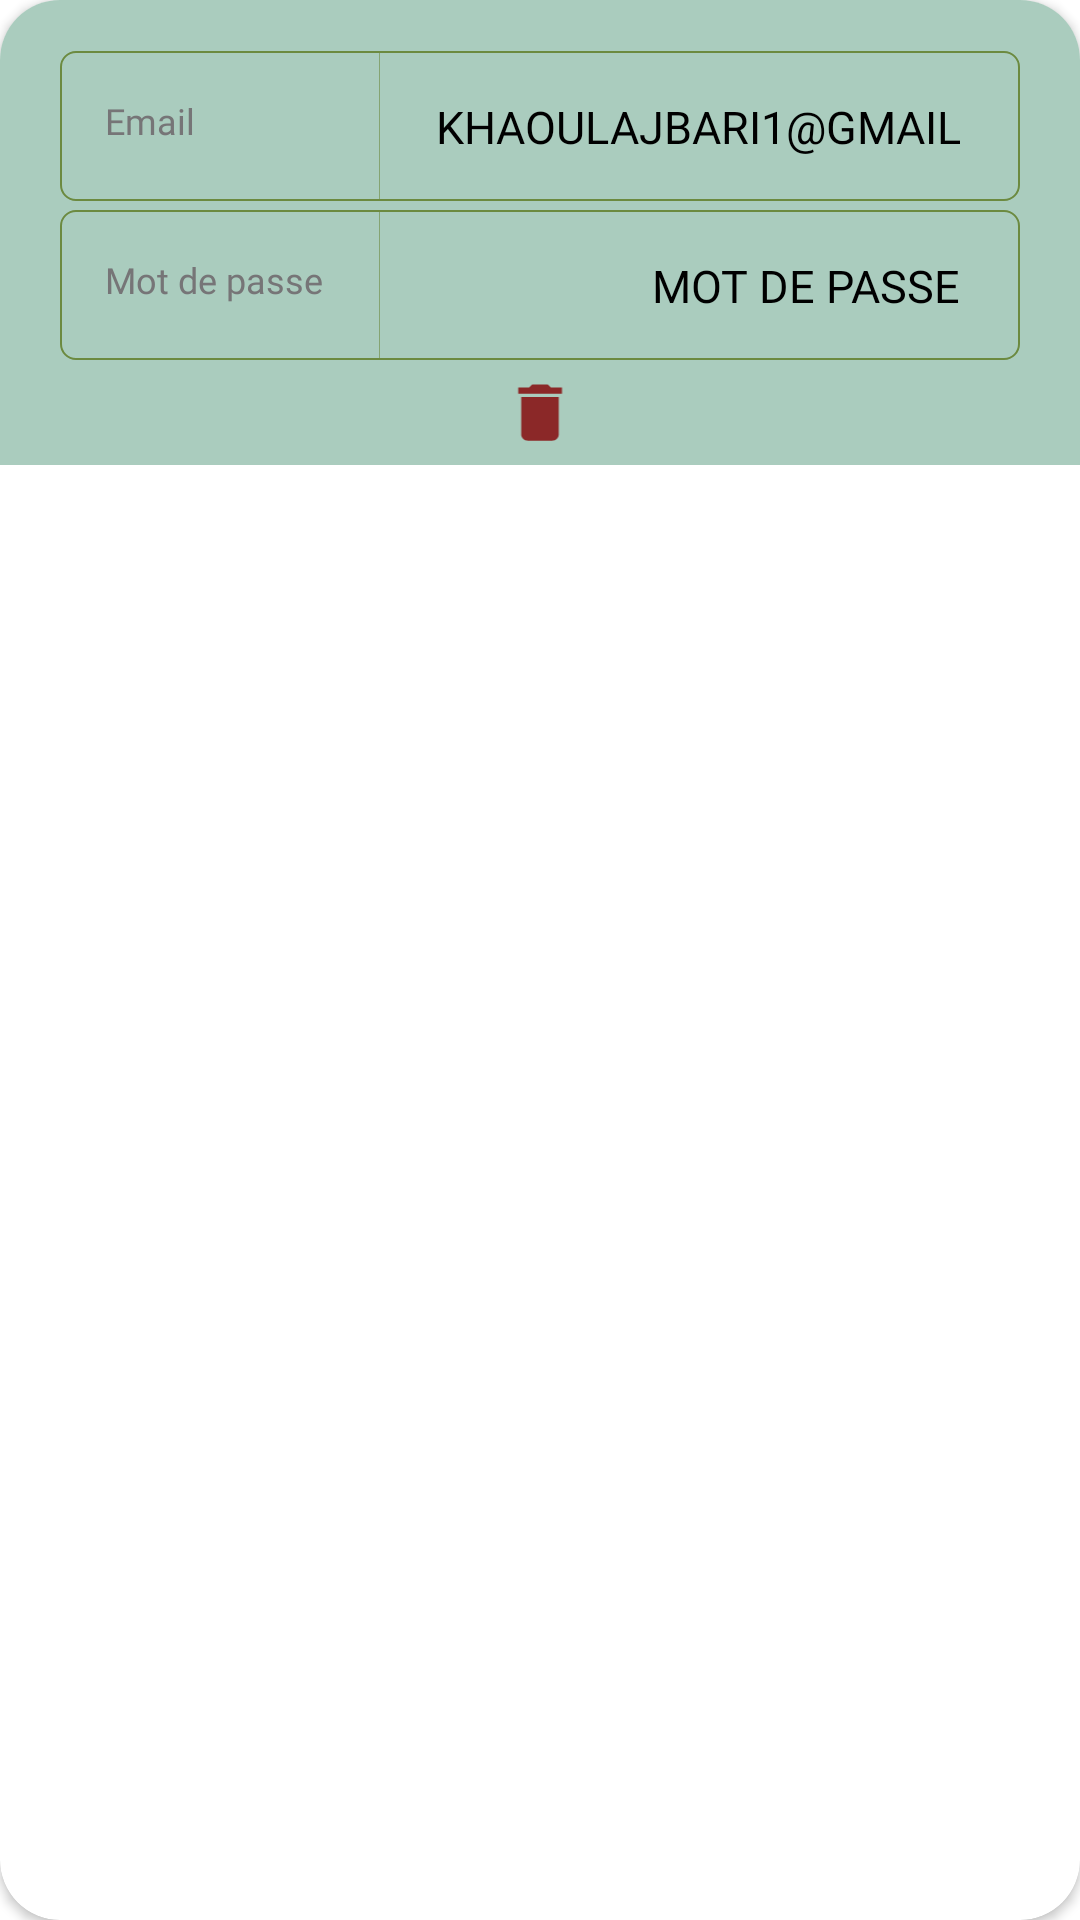

Named icons in this screenshot (1080 × 1920) and their bounding boxes, (x1, y1, x2, y2):
delete: (518, 384, 563, 441)
